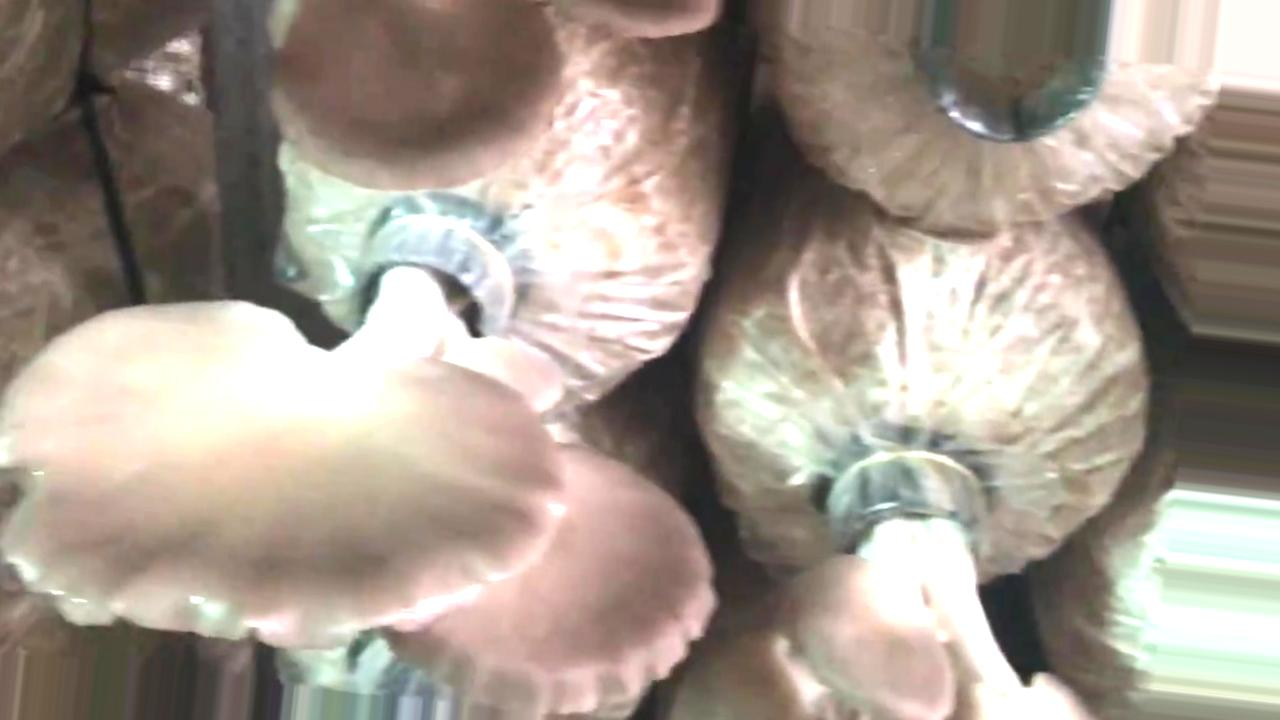nam: (1, 166, 568, 653), (670, 456, 1089, 720), (375, 443, 717, 720), (268, 1, 570, 200)
